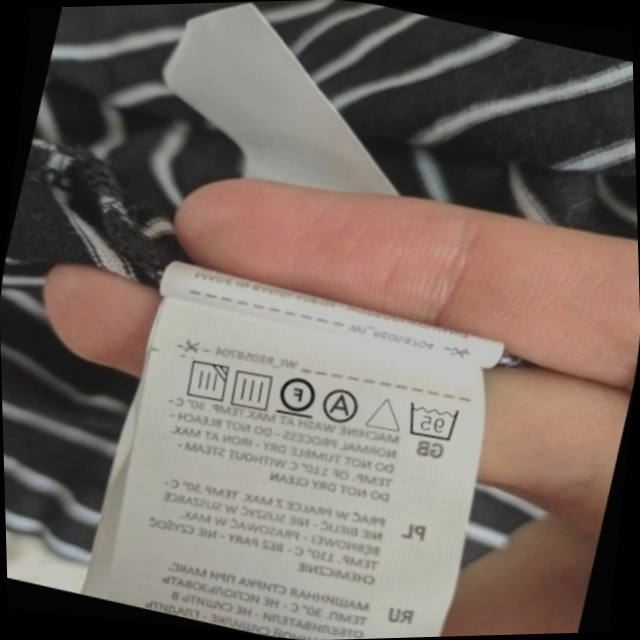95C: (399, 393, 465, 448)
bleach: (362, 387, 408, 438)
drip_dry: (224, 362, 280, 416)
drip_dry_in_shade: (176, 353, 234, 409)
dry_clean: (317, 382, 366, 429)
dry_clean_petrol_only: (271, 367, 323, 423)
